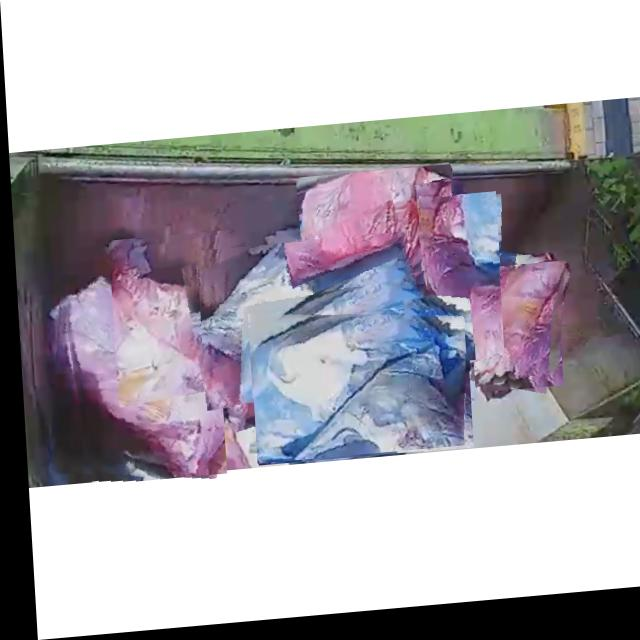other_trashbag: (58, 281, 219, 481), (247, 320, 462, 467), (198, 248, 404, 400), (107, 241, 238, 397), (299, 175, 449, 293), (423, 206, 496, 370), (469, 271, 562, 394)
